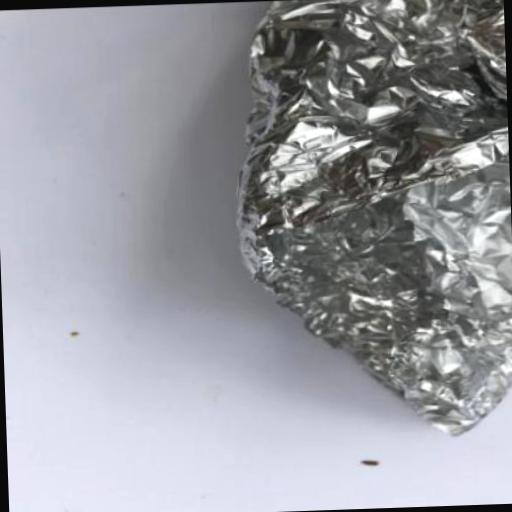metal: (230, 0, 512, 446)
